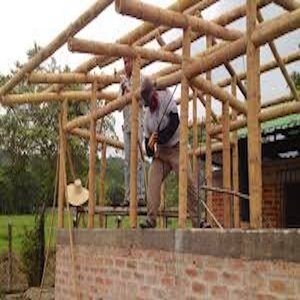combustible: (71, 103, 260, 206), (24, 42, 255, 89)
